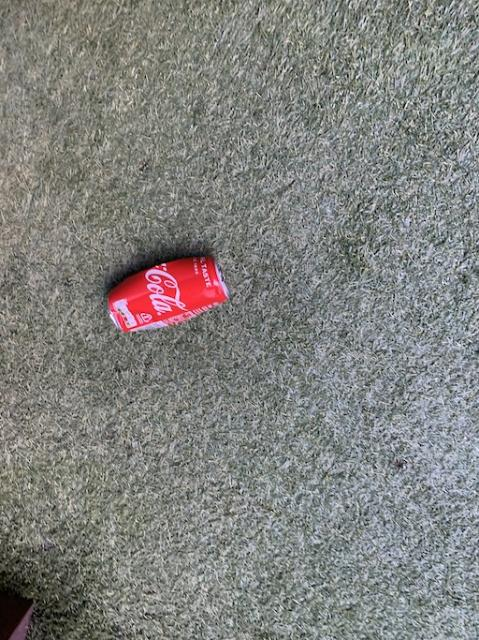metal: (108, 256, 228, 330)
